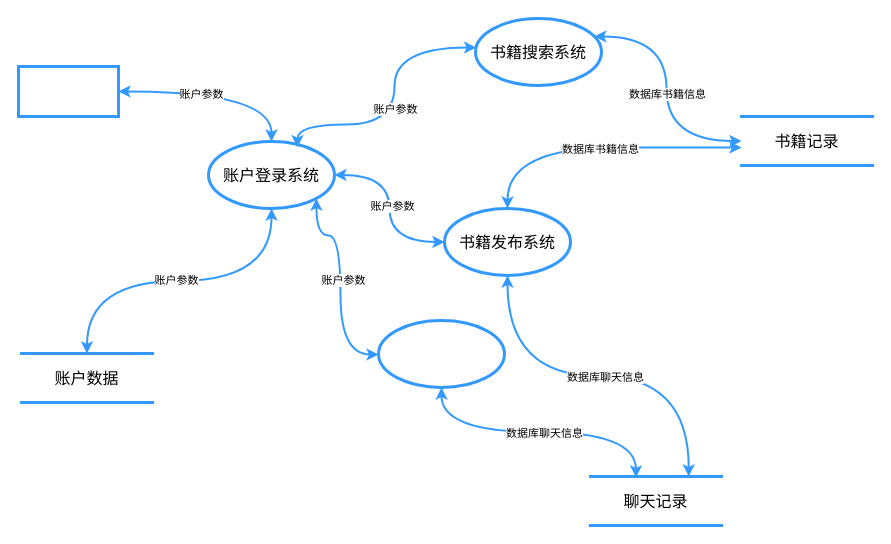
This 891x544 diagram has some shape labels left out. Each missing label, with the centre of its shape:
用户: point 68,91
聊天系统: point 441,353
